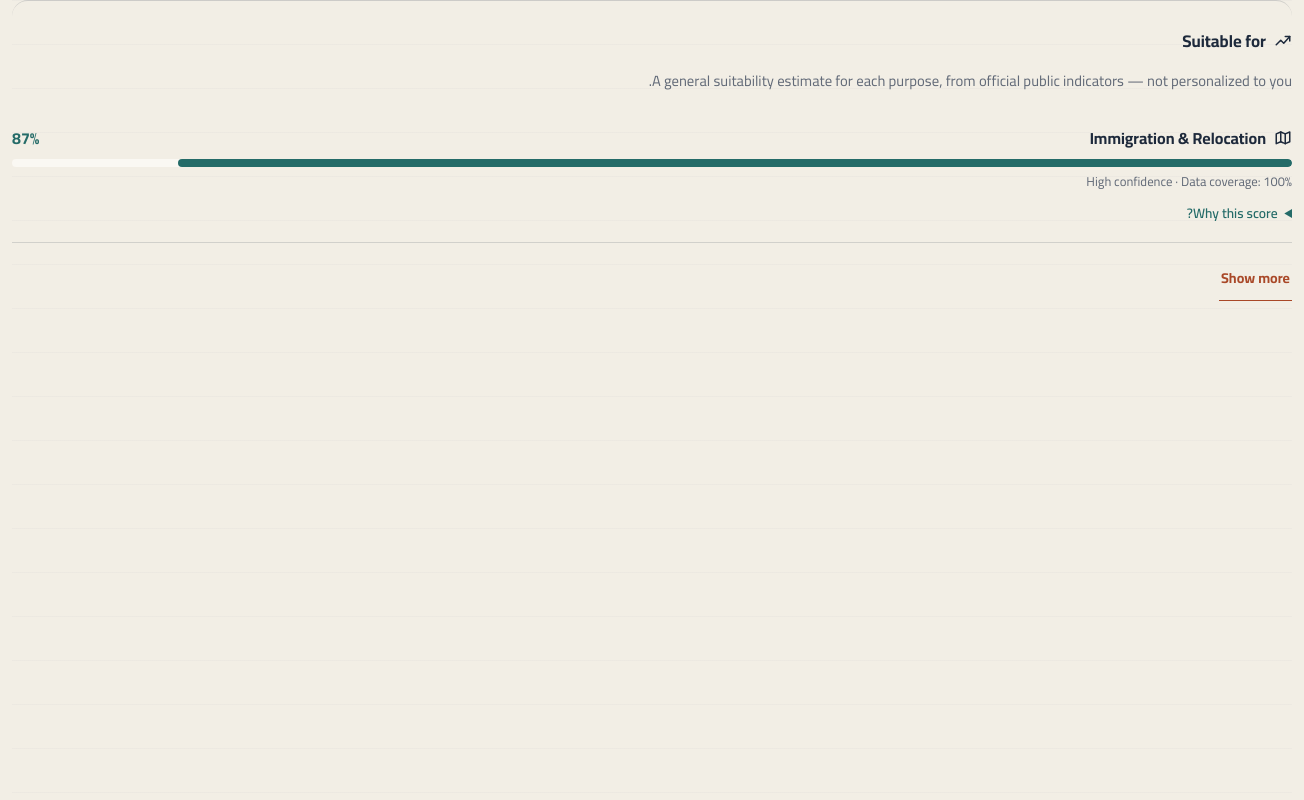
it: CountrySuitability — "Why this score?" lazy detail fetch › fetches and renders components, strengths, and sources once opened
This screenshot has width=1304, height=800.
Click the heading "Why this score?" at coordinates (1232, 213), box [1187,200,1278,226]
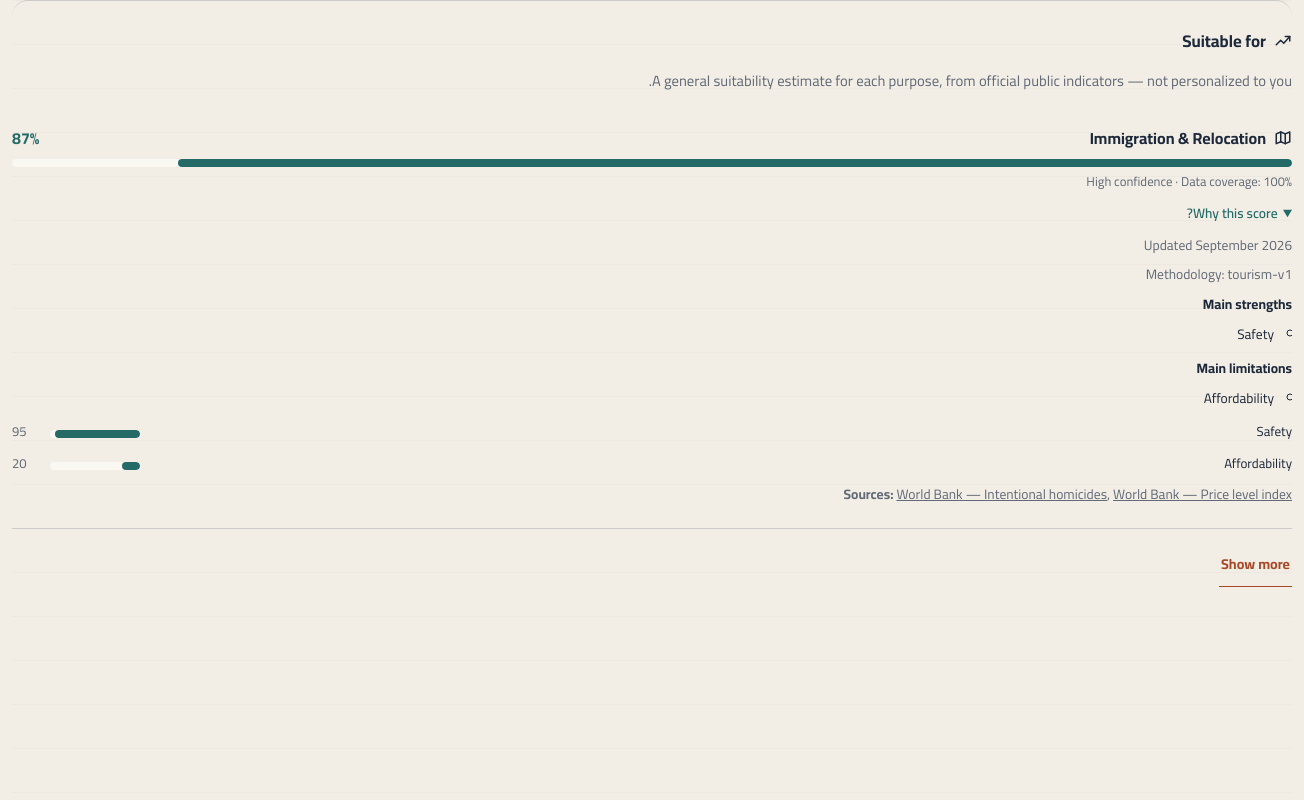
Now the text "Methodology: tourism-v1" is shown, box [1146,261,1292,287]
Now the list item "Safety" is shown, box [1237,321,1274,347]
Now the text "Main strengths" is shown, box [1203,291,1292,317]
